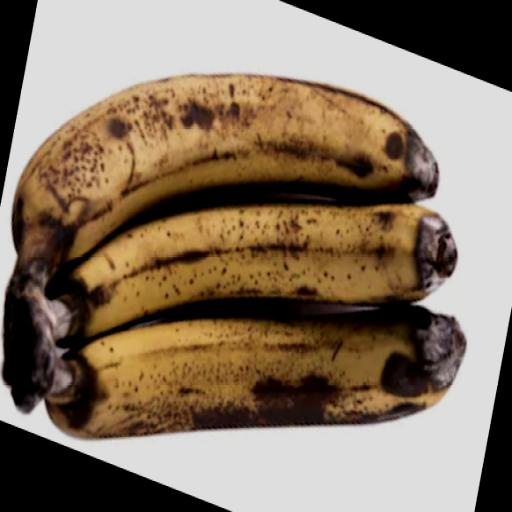banana-overripe: (0, 63, 476, 471)
